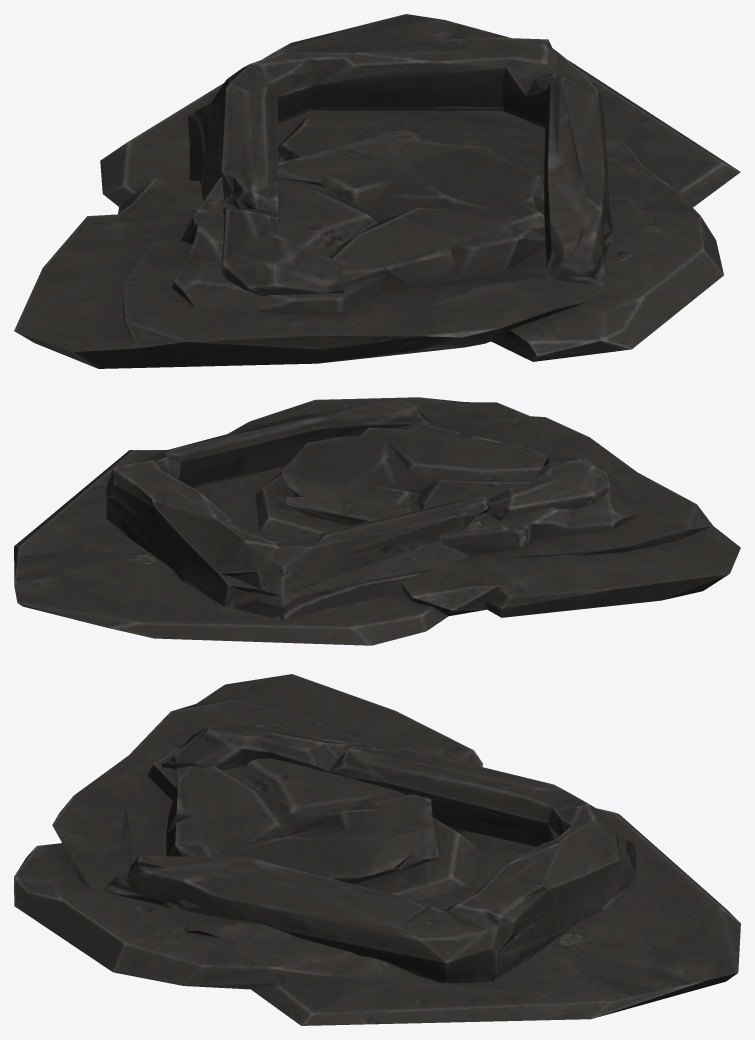
The model's file is badside_rocks006_b.gltf.
The picture shows the model from 3 angles, top to bottom: view 1: azimuth 30°, elevation 25°; view 2: azimuth 150°, elevation 25°; view 3: azimuth 270°, elevation 25°; orthographic projection. The views are drawn at different scales.
Parts seen in each view (by area): view 1: badside_rocks006.vmdl_c.badside_rocks006_model; view 2: badside_rocks006.vmdl_c.badside_rocks006_model; view 3: badside_rocks006.vmdl_c.badside_rocks006_model.
Part boxes in pixels (x1,y1,x2,y2): badside_rocks006.vmdl_c.badside_rocks006_model: (14, 14, 740, 368); badside_rocks006.vmdl_c.badside_rocks006_model: (14, 397, 740, 645); badside_rocks006.vmdl_c.badside_rocks006_model: (14, 674, 740, 1025).
Bounding box in the file's own units: 9.66 × 0.9803 × 8.98.
Materials: 1 (1 with a texture image).
